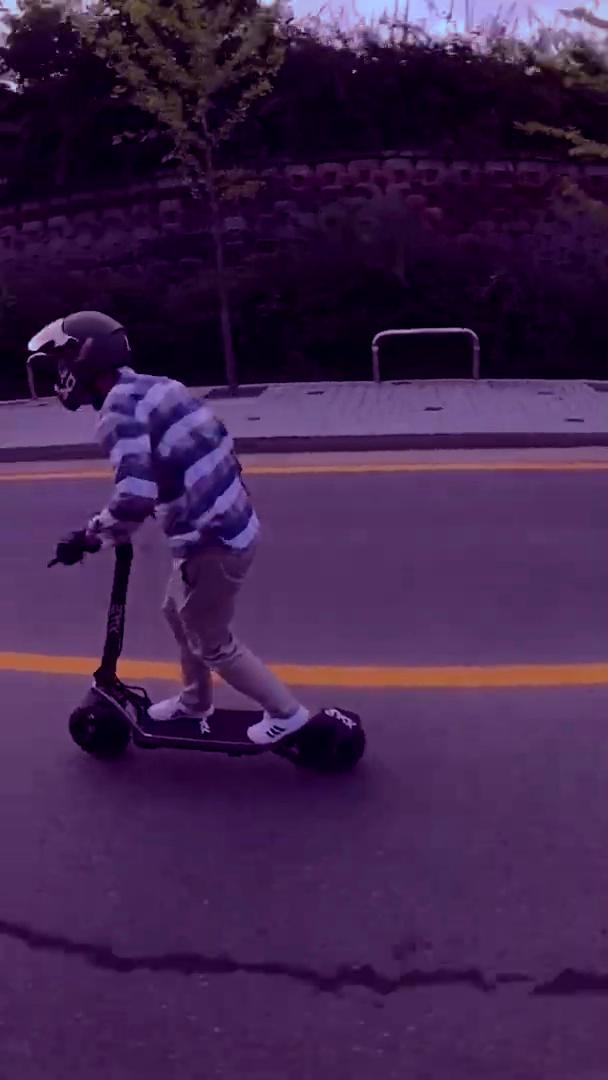helmet: (24, 306, 376, 780)
